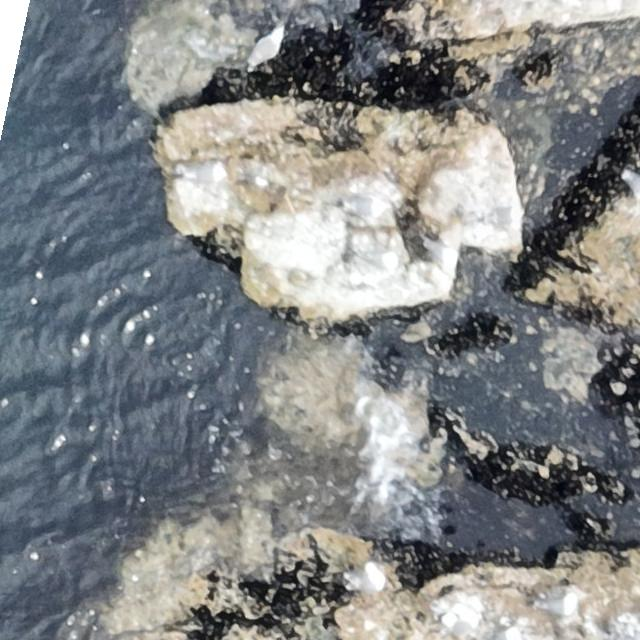umineko: (247, 27, 285, 68), (342, 562, 387, 592), (180, 158, 228, 183), (532, 591, 579, 616), (363, 246, 399, 268), (625, 170, 640, 195)
